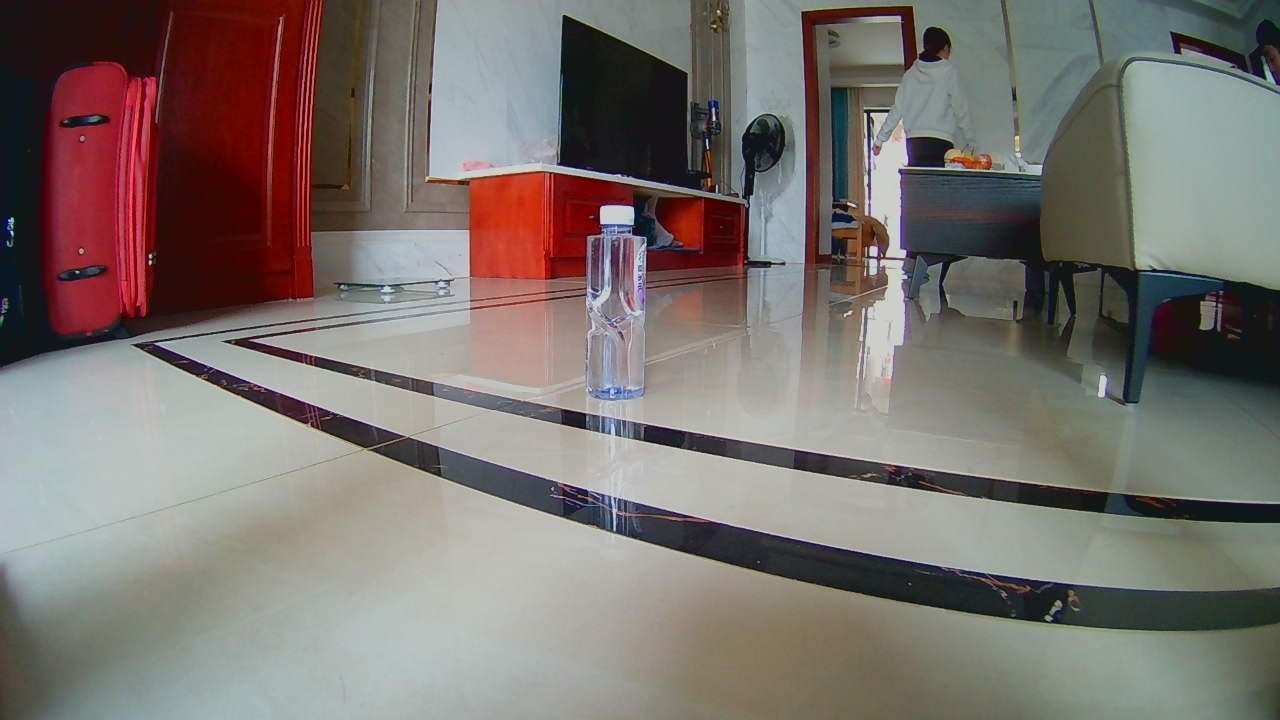water: (584, 205, 644, 396)
